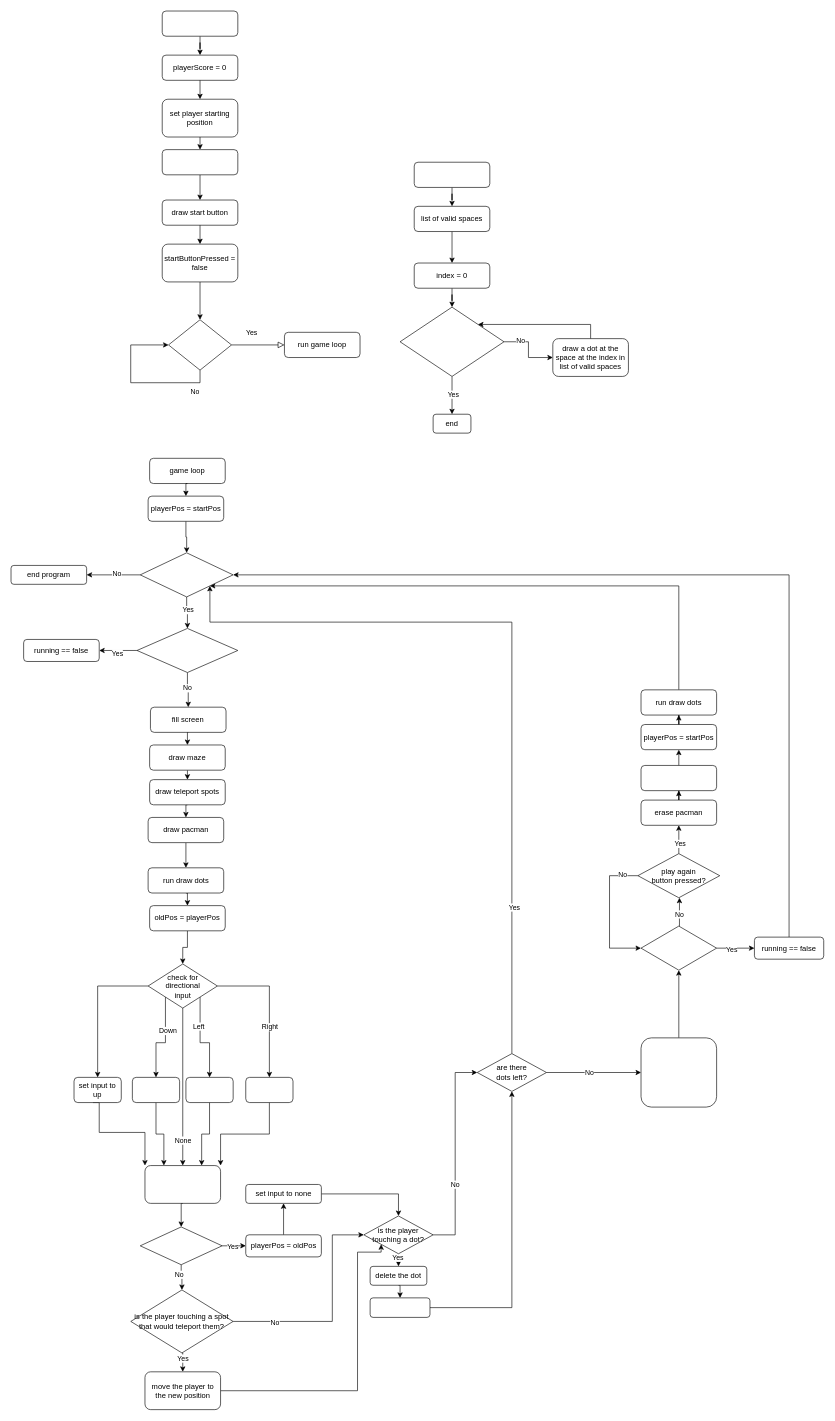
Some shapes in this 835 by 1421 pixel diagram are drawn without their labels. Here are the shapes that lost their labels. From the top down, the centre of each, then its label:
At point (200, 23): "program run".
At point (200, 162): "fill background".
At point (452, 174): "draw dots".
At point (200, 344): "start button pressed?".
At point (451, 341): "is index larger than length of list of valid spaces?".
At point (186, 574): "is running true?".
At point (187, 650): "has the app been closed?".
At point (678, 778): "input = none".
At point (678, 947): "quit button pressed?".
At point (156, 1090): "set input to down".
At point (209, 1090): "set input to left".
At point (269, 1090): "set input to right".
At point (678, 1072): "draw game over, score, and play again and quit buttons.".
At point (182, 1184): "move player in direction of input".
At point (181, 1245): "is the player touching a wall".
At point (399, 1307): "increase playerScore by 1".
